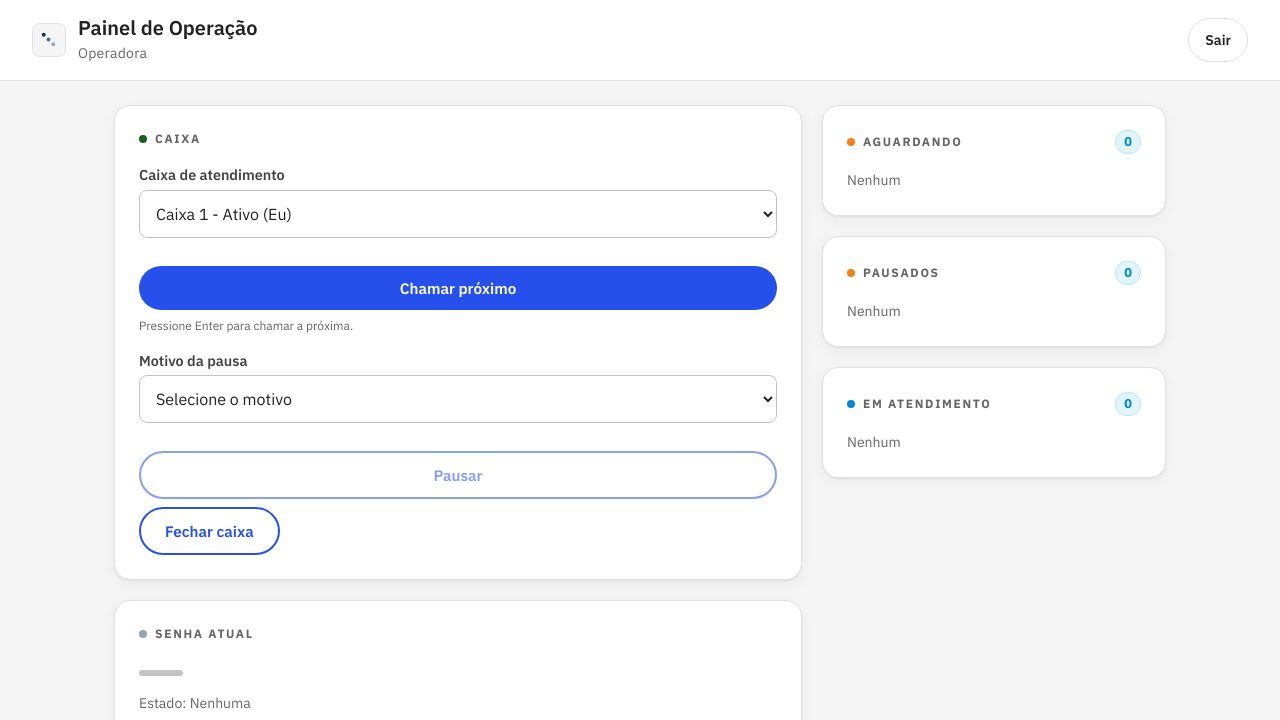
Scenario: OperationPage coverage › closes the confirmation modal with the back button without closing the counter
The width and height of the screenshot is (1280, 720).
Click the button "Fechar caixa" at (209, 531), box x1=139 y1=507 x2=280 y2=555
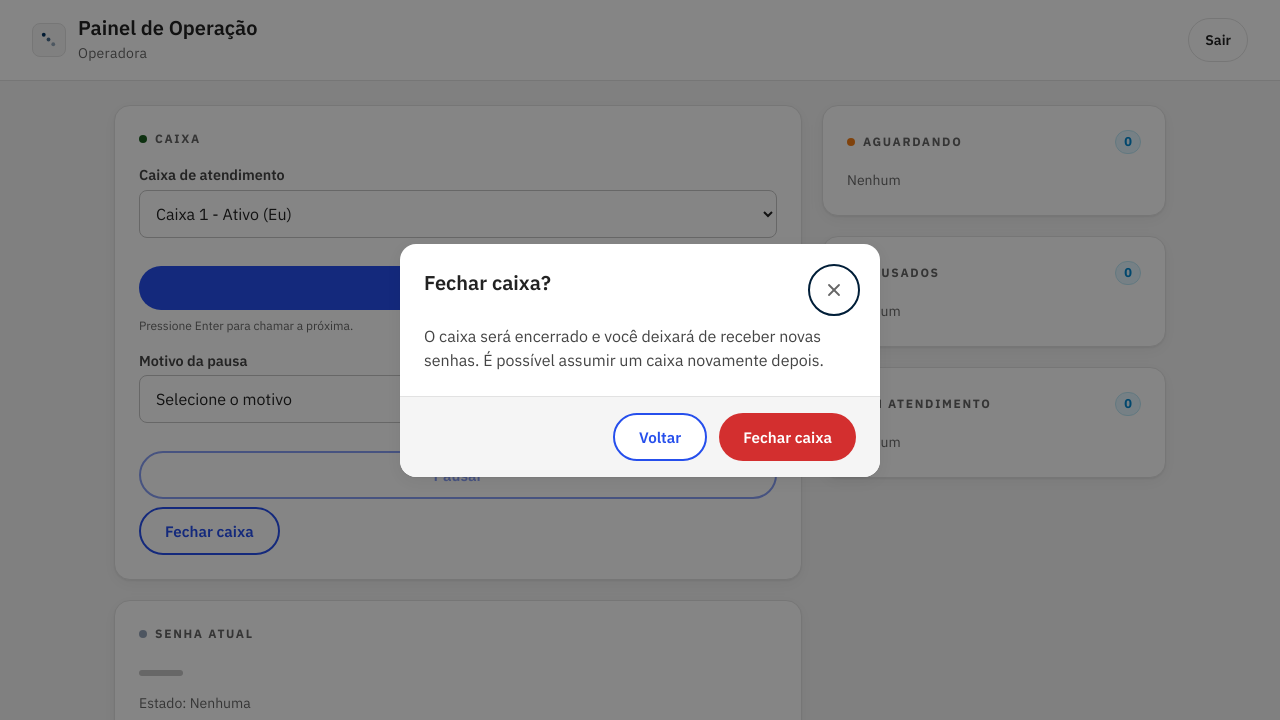
Click the button "Voltar" at (660, 436), box x1=613 y1=412 x2=707 y2=460
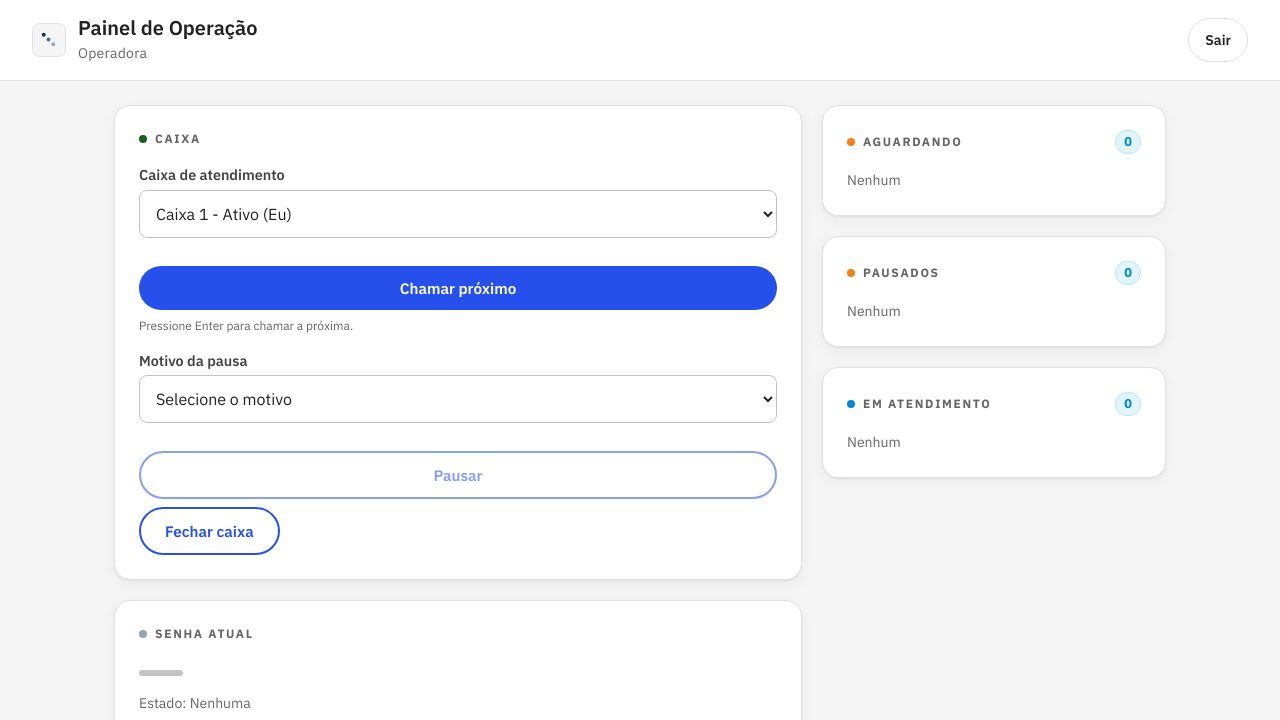
Expected: the dialog is gone
